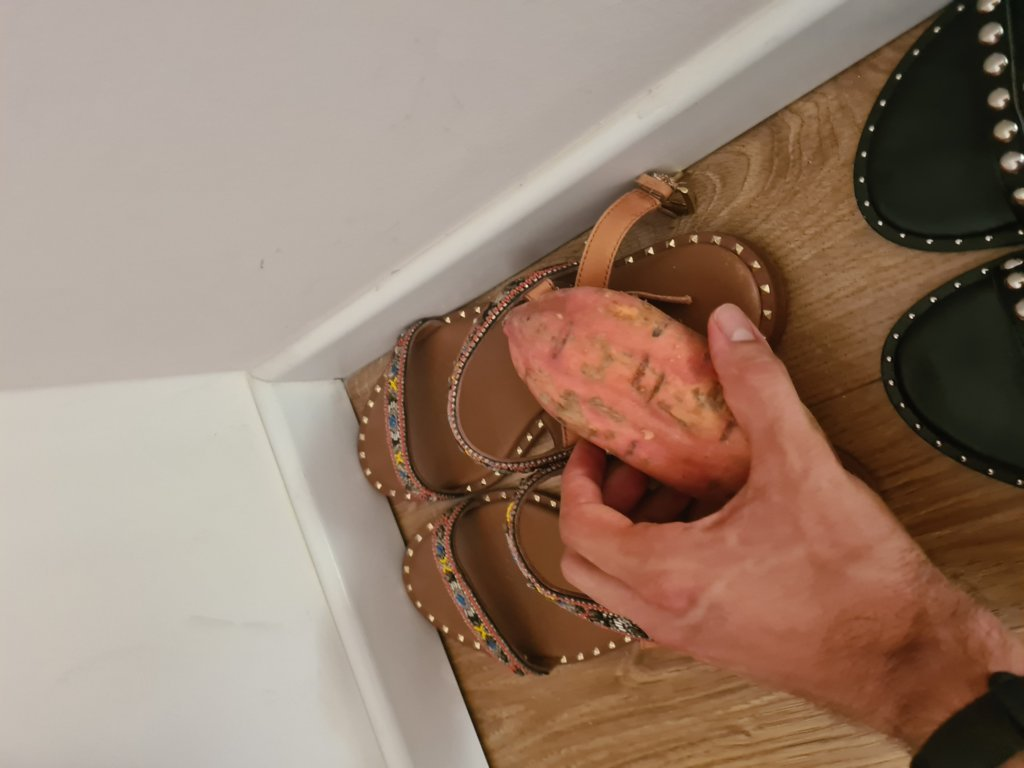Sweet Potatow: (501, 290, 761, 491)
